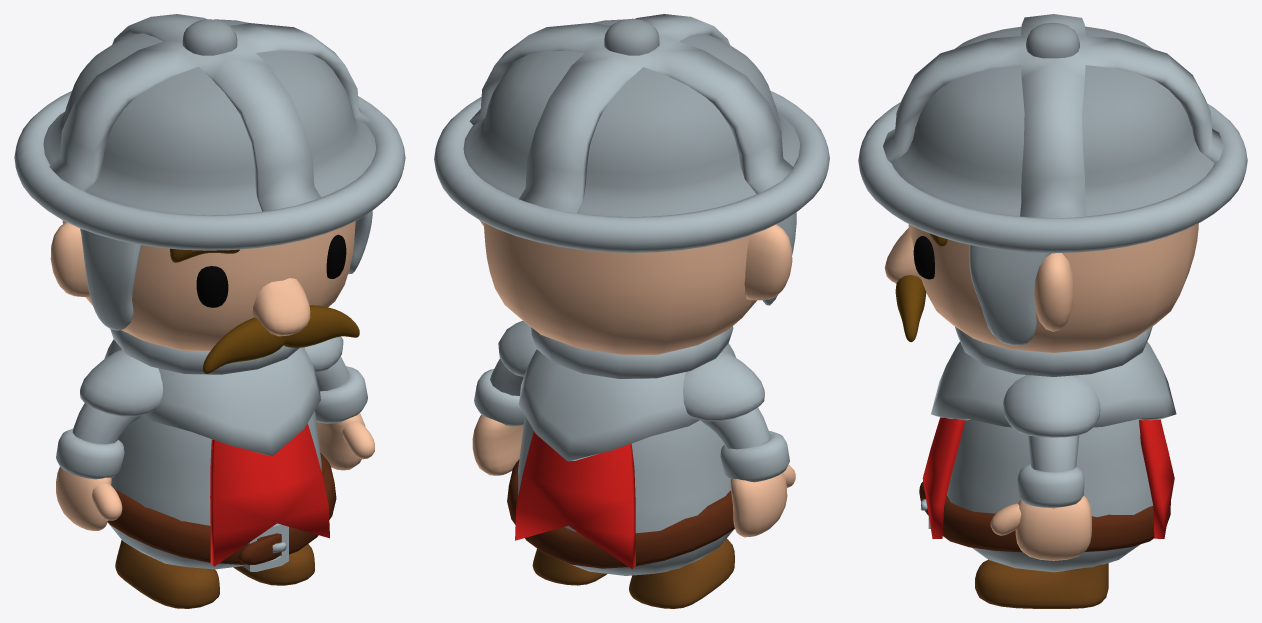
Rendered from Knight1final.dae.
3 views of the same model, side by side, from view 1: azimuth 30°, elevation 25°; view 2: azimuth 150°, elevation 25°; view 3: azimuth 270°, elevation 25° (orthographic).
Visible parts, largest first — view 1: Knight1_Head, Knight1_Body, Knight1_Right_Arm, Knight1_Left_Arm, Knight1_Right_Foot, Knight1_Left_Foot; view 2: Knight1_Head, Knight1_Body, Knight1_Right_Arm, Knight1_Left_Arm, Knight1_Right_Foot, Knight1_Left_Foot; view 3: Knight1_Head, Knight1_Body, Knight1_Left_Arm, Knight1_Left_Foot.
Part boxes in pixels (x1,y1,x2,y2): Knight1_Head: [14, 14, 405, 373]; Knight1_Body: [104, 329, 336, 571]; Knight1_Right_Arm: [56, 349, 162, 530]; Knight1_Left_Arm: [304, 336, 374, 470]; Knight1_Right_Foot: [115, 540, 219, 608]; Knight1_Left_Foot: [233, 544, 314, 585]; Knight1_Head: [434, 14, 829, 354]; Knight1_Body: [507, 326, 735, 575]; Knight1_Right_Arm: [683, 351, 795, 537]; Knight1_Left_Arm: [472, 320, 536, 475]; Knight1_Right_Foot: [629, 538, 734, 608]; Knight1_Left_Foot: [532, 548, 606, 585]; Knight1_Head: [858, 14, 1247, 352]; Knight1_Body: [919, 326, 1176, 572]; Knight1_Left_Arm: [990, 375, 1100, 560]; Knight1_Left_Foot: [975, 559, 1108, 608].
Bounding box in the file's own units: 1.94 × 1.94 × 3.
